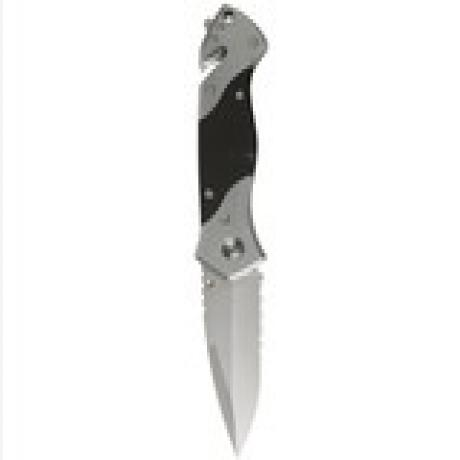weapon: (192, 4, 270, 460)
